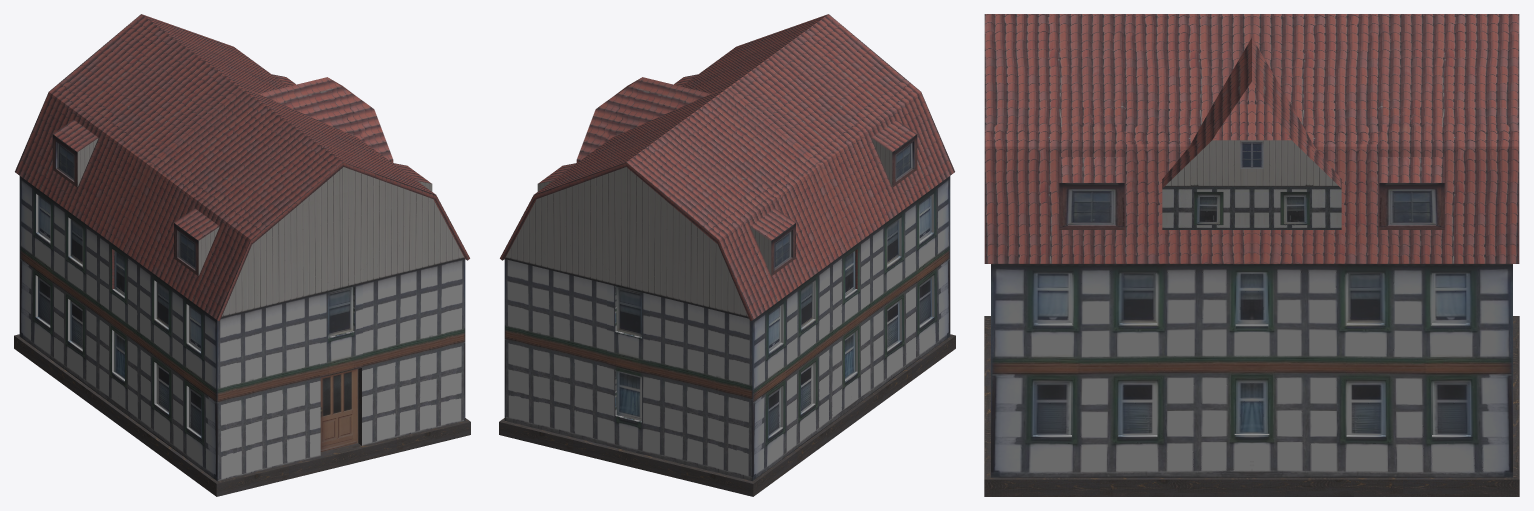
The model's file is harz_house_1.obj.
3 views of the same model, side by side, from view 1: azimuth 30°, elevation 25°; view 2: azimuth 150°, elevation 25°; view 3: azimuth 270°, elevation 25° (orthographic). The views are drawn at different scales.
Visible parts, largest first — view 1: HarzHouse1; view 2: HarzHouse1; view 3: HarzHouse1.
Part boxes in pixels (bbox=[...]): HarzHouse1: bbox=[14, 14, 470, 496]; HarzHouse1: bbox=[499, 14, 955, 496]; HarzHouse1: bbox=[984, 14, 1519, 496].
Size of the model in its own units: 9.84 by 11.22 by 13.58.
Materials: 1 (1 with a texture image).
